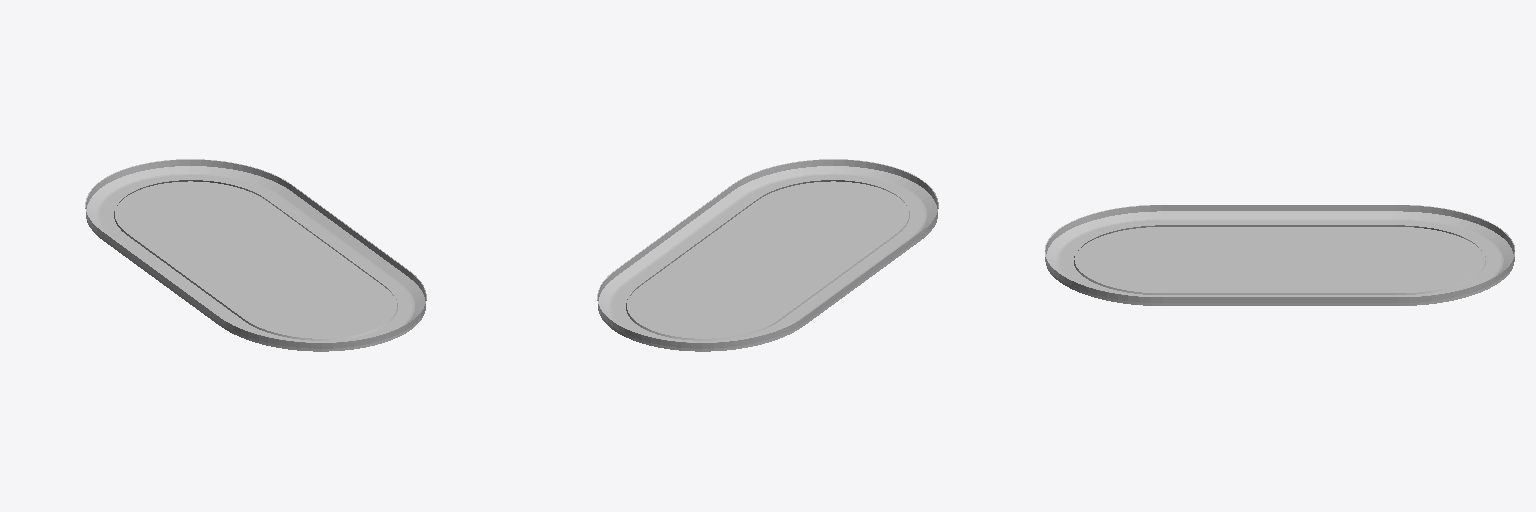
File: track2.obj
The picture shows the model from 3 angles: view 1: azimuth 30°, elevation 25°; view 2: azimuth 150°, elevation 25°; view 3: azimuth 270°, elevation 25°; orthographic projection.
Parts seen in each view (by area): view 1: Cylinder.001_Cylinder.002, Cylinder_Cylinder.001, Cylinder.003_Cylinder.004, Cylinder.002_Cylinder.003; view 2: Cylinder.001_Cylinder.002, Cylinder_Cylinder.001, Cylinder.003_Cylinder.004, Cylinder.002_Cylinder.003; view 3: Cylinder.001_Cylinder.002, Cylinder_Cylinder.001, Cylinder.003_Cylinder.004, Cylinder.002_Cylinder.003.
Boxes of the visible parts, x1=… form: Cylinder.001_Cylinder.002: x1=115, y1=181, x2=396, y2=337; Cylinder_Cylinder.001: x1=86, y1=166, x2=425, y2=351; Cylinder.003_Cylinder.004: x1=85, y1=159, x2=426, y2=348; Cylinder.002_Cylinder.003: x1=114, y1=180, x2=397, y2=340; Cylinder.001_Cylinder.002: x1=627, y1=181, x2=908, y2=337; Cylinder_Cylinder.001: x1=598, y1=166, x2=937, y2=351; Cylinder.003_Cylinder.004: x1=597, y1=159, x2=938, y2=348; Cylinder.002_Cylinder.003: x1=626, y1=180, x2=909, y2=340; Cylinder.001_Cylinder.002: x1=1075, y1=227, x2=1484, y2=292; Cylinder_Cylinder.001: x1=1045, y1=211, x2=1514, y2=305; Cylinder.003_Cylinder.004: x1=1045, y1=205, x2=1514, y2=302; Cylinder.002_Cylinder.003: x1=1074, y1=225, x2=1485, y2=294.
Bounding box in the file's own units: 140 × 6.99 × 301.